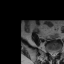CCS_normal: (52, 50, 55, 59)
LFS_normal: (57, 48, 59, 56)
LLS_normal: (55, 50, 57, 58)
RFS_normal: (48, 48, 50, 56)
RLS_normal: (50, 49, 52, 57)
